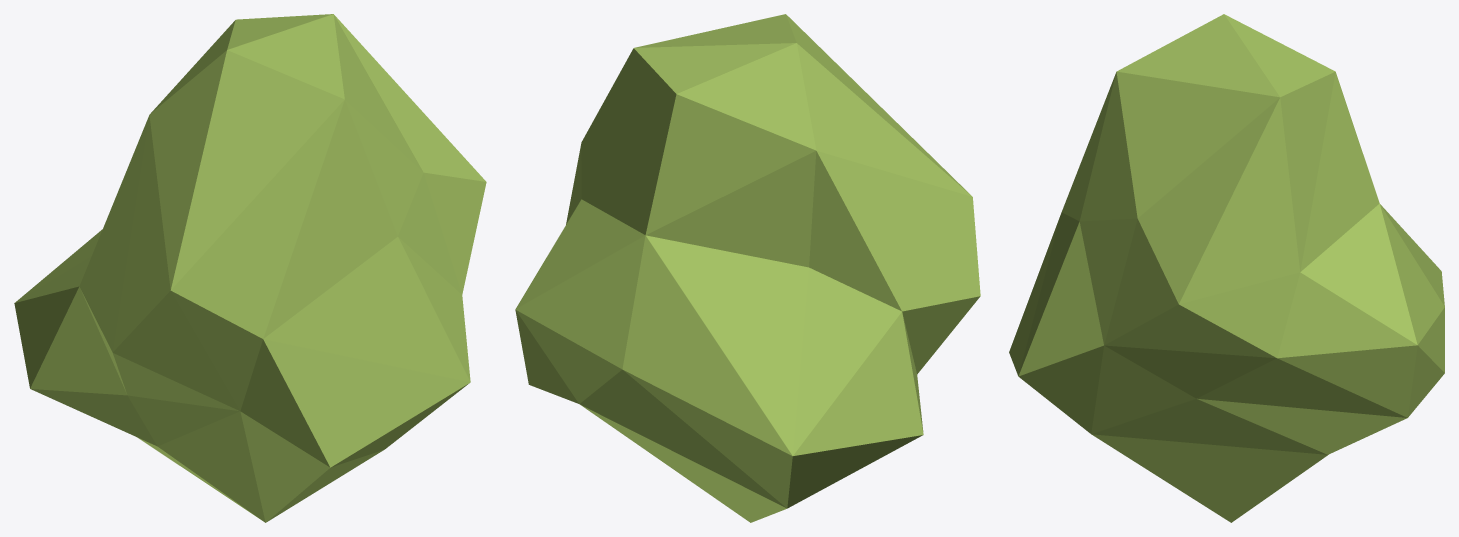
Rendered from CercocarpusMontanus.glb.
The picture shows the model from 3 angles, left to right: view 1: azimuth 30°, elevation 25°; view 2: azimuth 150°, elevation 25°; view 3: azimuth 270°, elevation 25°; orthographic projection.
Parts seen in each view (by area): view 1: Crown; view 2: Crown; view 3: Crown.
Part boxes in pixels (left/top/right/bottom): Crown: left=14, top=14, right=486, bottom=522; Crown: left=515, top=14, right=980, bottom=522; Crown: left=1009, top=14, right=1444, bottom=522.
Size of the model in its own units: 3.31 by 3.85 by 3.12.
